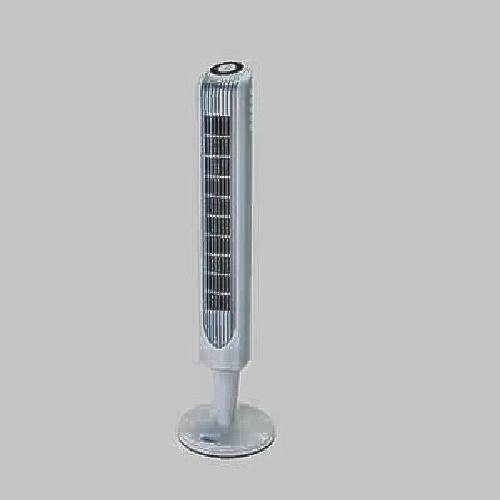fan: (190, 67, 274, 455)
